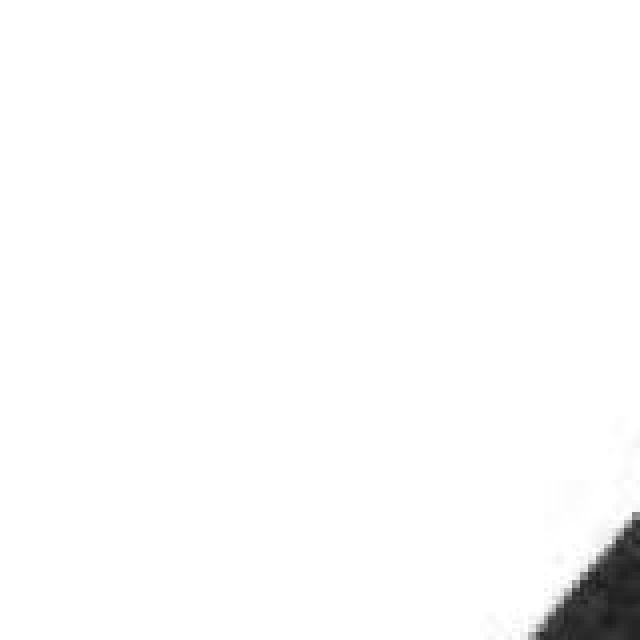transistor: (392, 376, 640, 640)
